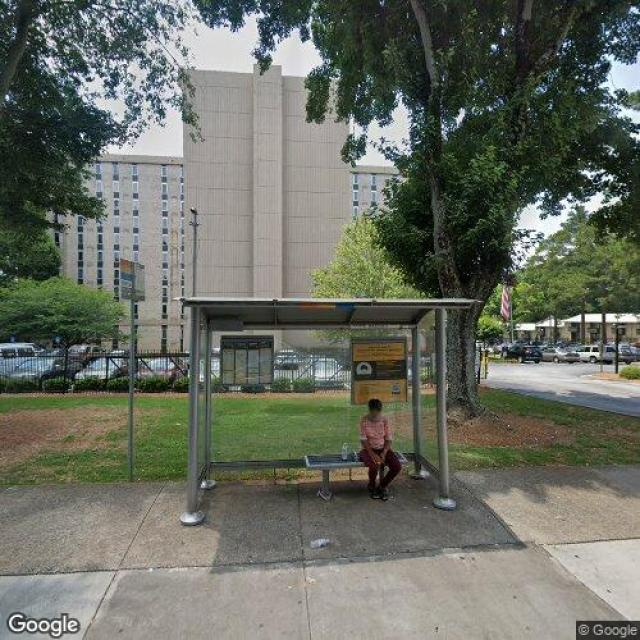seating: (305, 450, 408, 501)
shelter: (177, 296, 482, 524)
